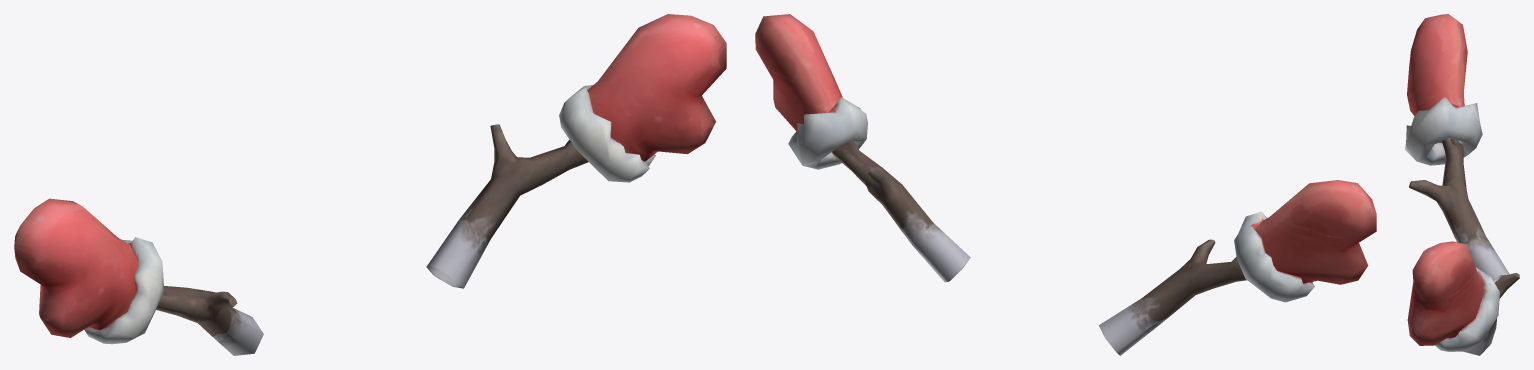
Rendered from Homeworld_Exterior_Common_Prop_Thing_SnowmanHands_03_Vo.fbx.
The picture shows the model from 3 angles, left to right: view 1: azimuth 30°, elevation 25°; view 2: azimuth 150°, elevation 25°; view 3: azimuth 270°, elevation 25°; orthographic projection. The views are drawn at different scales.
Parts seen in each view (by area): view 1: Homeworld_Exterior_Common_Prop_Thing_SnowmanHands_03_Vo; view 2: Homeworld_Exterior_Common_Prop_Thing_SnowmanHands_03_Vo; view 3: Homeworld_Exterior_Common_Prop_Thing_SnowmanHands_03_Vo.
Boxes of the visible parts, x1,y1,x2,y2 form: Homeworld_Exterior_Common_Prop_Thing_SnowmanHands_03_Vo: (14, 14, 726, 355); Homeworld_Exterior_Common_Prop_Thing_SnowmanHands_03_Vo: (755, 14, 1376, 355); Homeworld_Exterior_Common_Prop_Thing_SnowmanHands_03_Vo: (1405, 14, 1519, 355).
Size of the model in its own units: 1.97 by 0.6915 by 0.3355.
